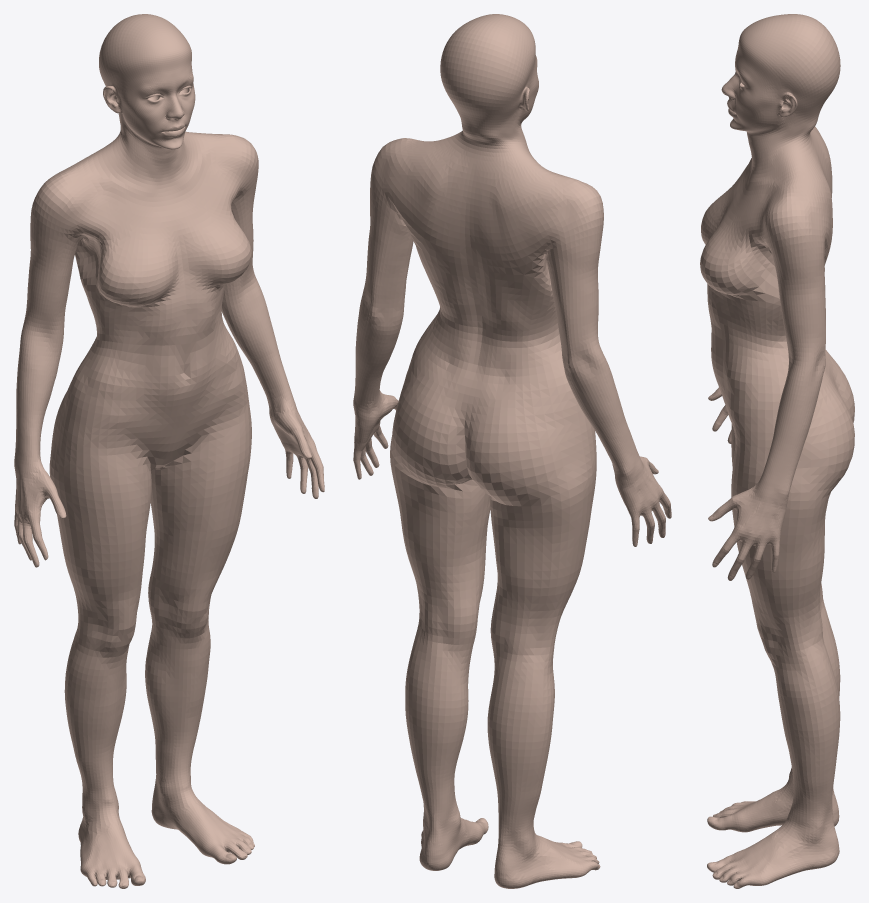
The model's file is skin-female2.glb.
3 views of the same model, side by side, from view 1: azimuth 30°, elevation 25°; view 2: azimuth 150°, elevation 25°; view 3: azimuth 270°, elevation 25° (orthographic). The views are drawn at different scales.
Visible parts, largest first — view 1: skin-female2, skin-female2-head; view 2: skin-female2, skin-female2-head; view 3: skin-female2, skin-female2-head.
Boxes of the visible parts, box(x1,y1,x2,y2) form: skin-female2: box(14, 133, 324, 888); skin-female2-head: box(79, 14, 215, 191); skin-female2: box(353, 138, 671, 888); skin-female2-head: box(412, 14, 551, 200); skin-female2: box(700, 126, 854, 888); skin-female2-head: box(721, 14, 840, 196).
Size of the model in its own units: 0.6425 by 1.73 by 0.2917.
Materials: 1 (1 with a texture image).
